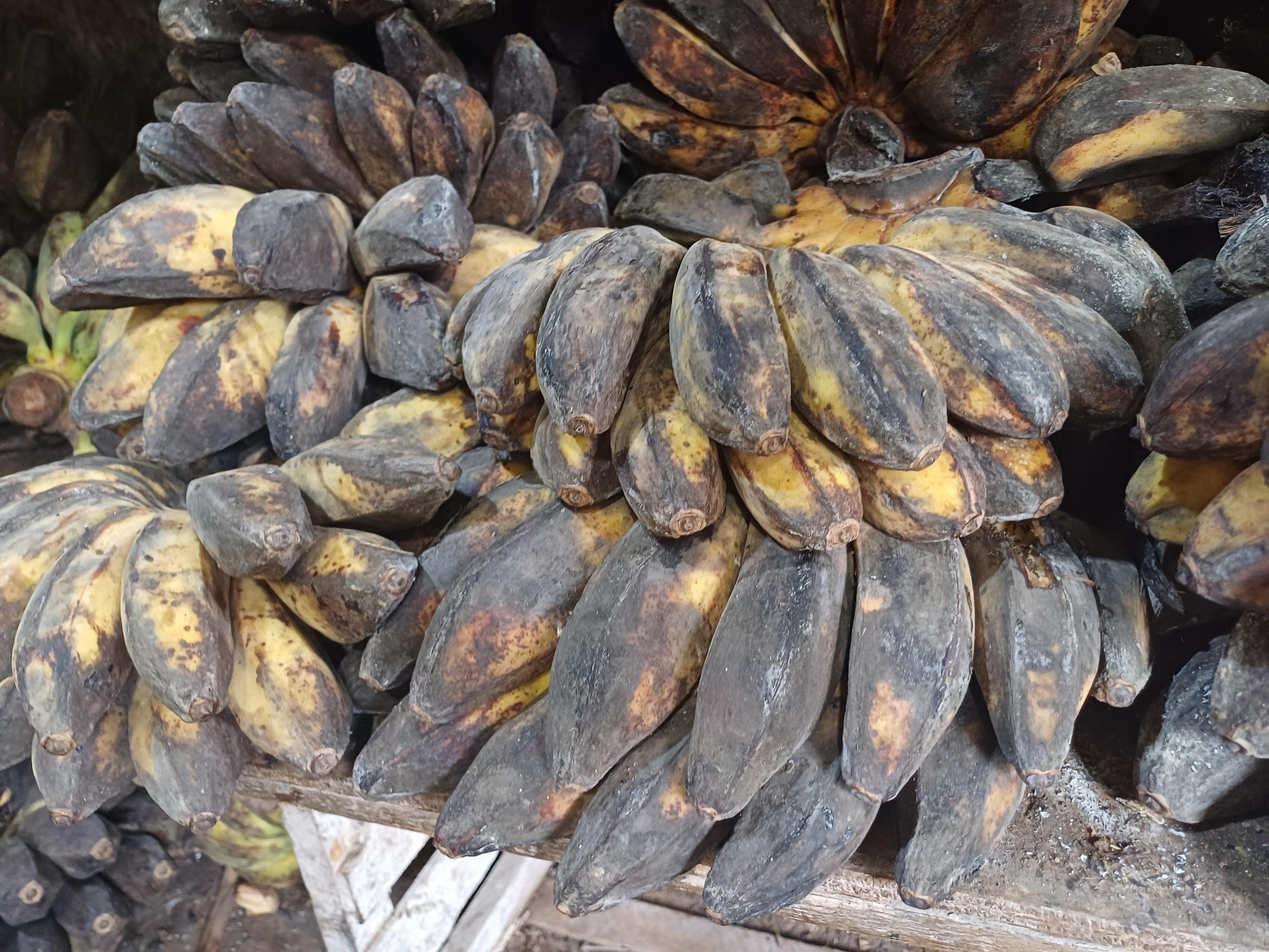overripe: (353, 479, 1100, 922), (446, 206, 1188, 549), (49, 175, 537, 464), (598, 0, 1269, 189), (137, 8, 621, 241), (0, 789, 193, 952)
ripe: (0, 436, 460, 832)
